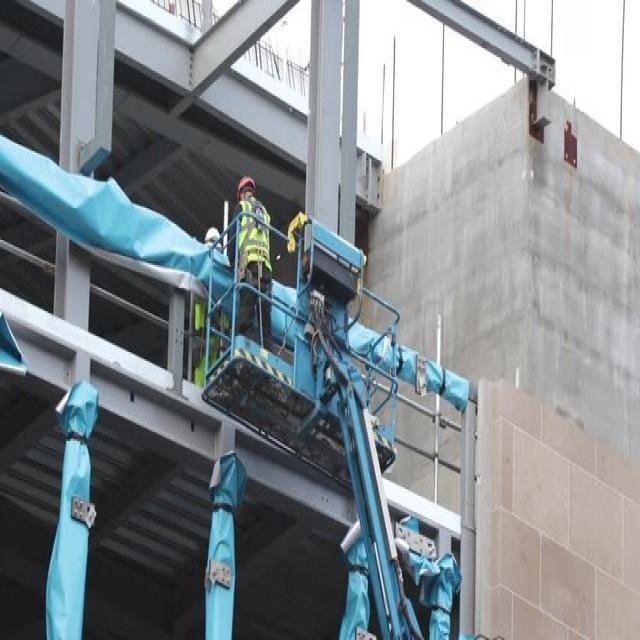Arnes_seguridad: (235, 196, 271, 272)
